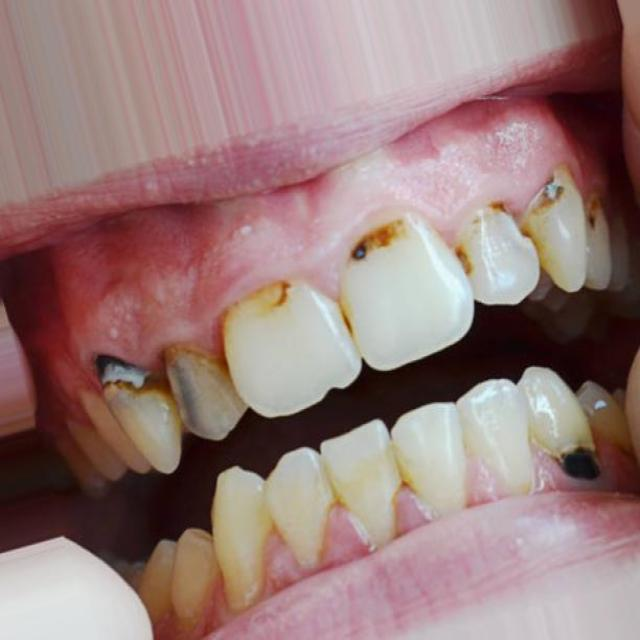caries: (88, 338, 165, 408), (543, 423, 605, 496), (254, 269, 308, 326), (492, 191, 536, 252), (344, 221, 391, 277), (532, 160, 576, 218), (445, 233, 489, 290), (580, 186, 612, 243)
